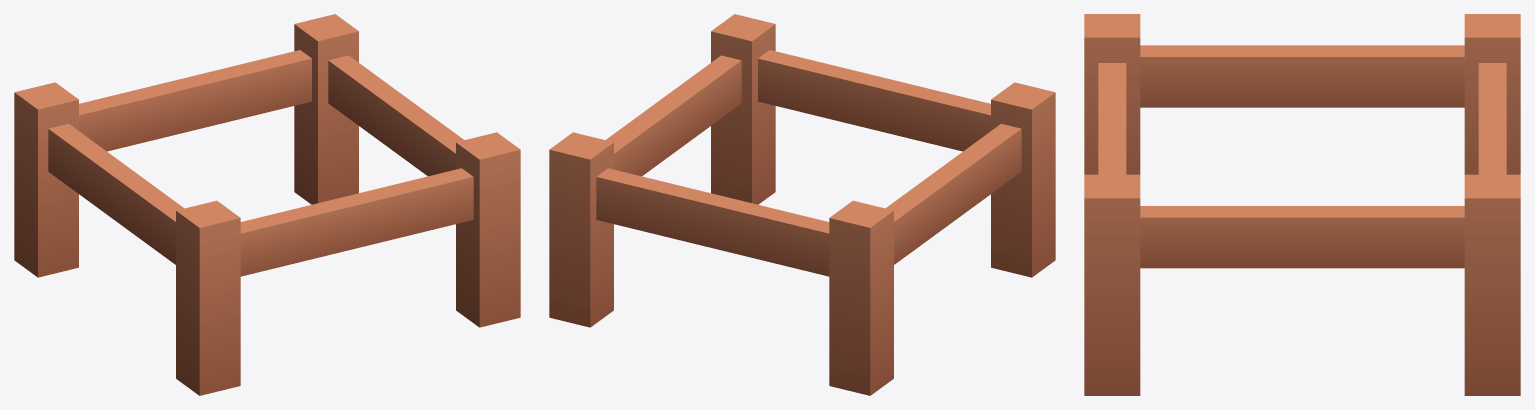
The model's file is wood-structure.glb.
3 renders of one model, left to right at view 1: azimuth 30°, elevation 25°; view 2: azimuth 150°, elevation 25°; view 3: azimuth 270°, elevation 25°, orthographic. The views are drawn at different scales.
Visible parts, largest first — view 1: wood-structure; view 2: wood-structure; view 3: wood-structure.
Part boxes in pixels (left/top/right/bottom): wood-structure: left=14, top=14, right=520, bottom=395; wood-structure: left=549, top=14, right=1055, bottom=395; wood-structure: left=1084, top=14, right=1520, bottom=395.
Size of the model in its own units: 1 by 0.5001 by 1.
Materials: 1 (1 with a texture image).
